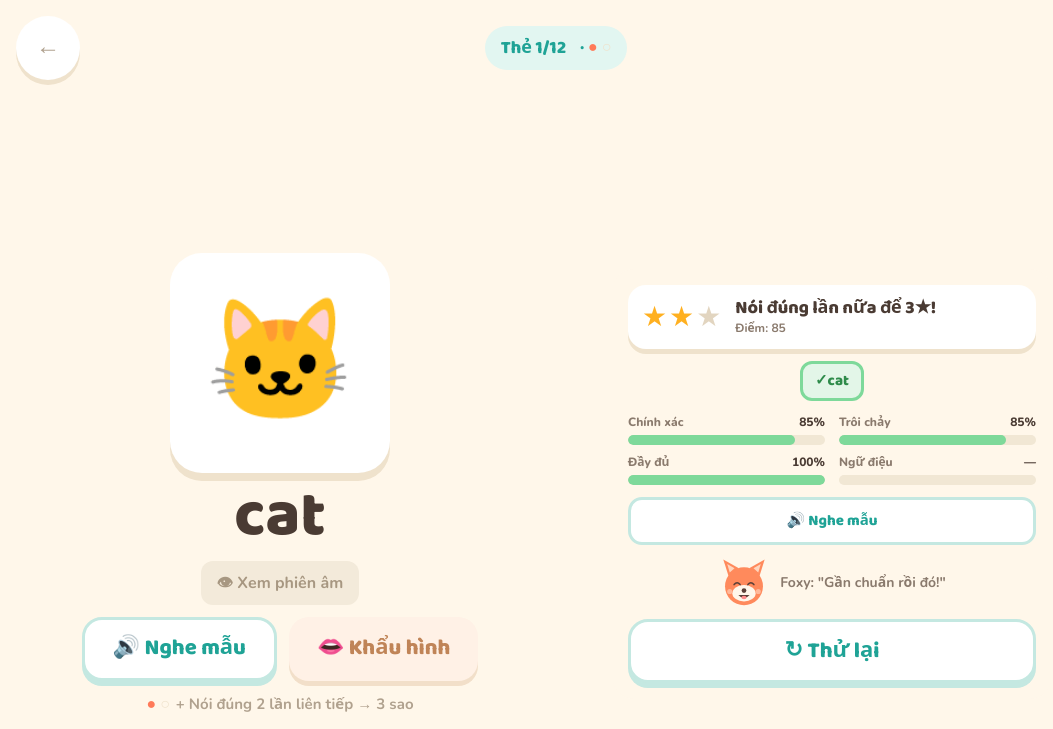
it: Word Pop: hidden IPA + two-in-a-row streak › two consecutive ≥80 results award 3 stars and fill both streak slots in the header chip
expect the text named "Lần 1/2" reads "●": met, box [588,35,598,60]
expect the text named "Lần 2/2" reads "○": met, box [602,35,611,60]
Click the button "↻ Thử lại": click(832, 651) [628,619,1036,683]
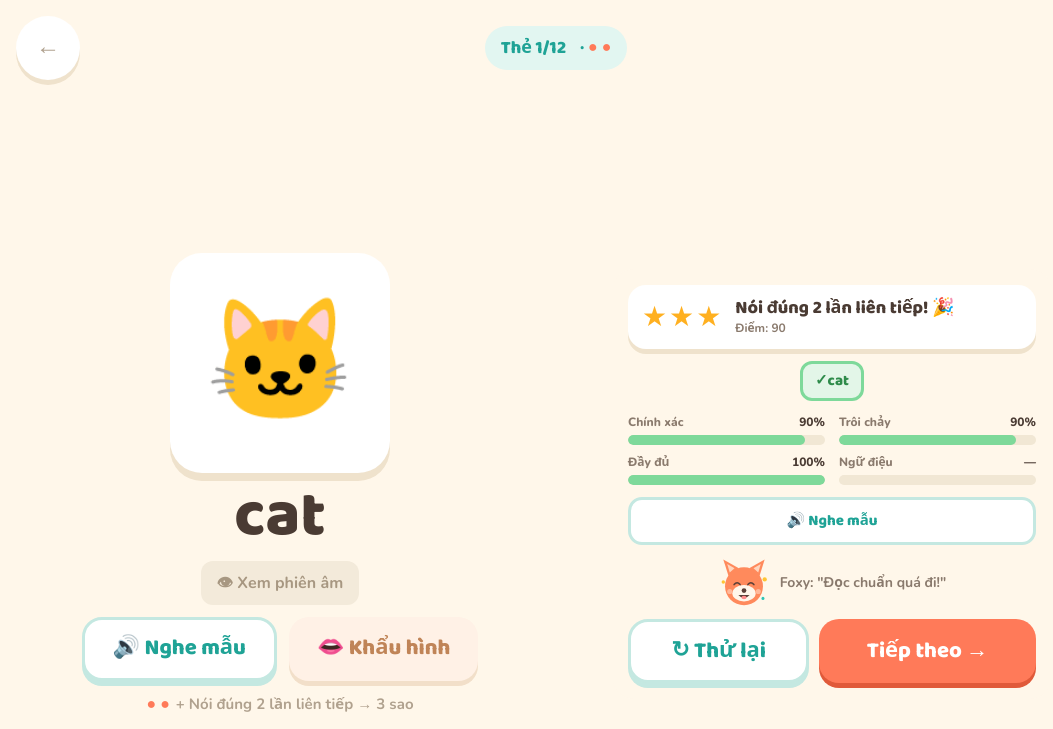
expect the text named "Lần 2/2" reads "●": met, box [602,35,611,60]
expect the text "Nói đúng 2 lần liên tiếp! 🎉" is shown: met, box [735,294,954,322]
expect the number of elements with test id "star-filled" is 3: met, box [642,303,669,331]; [669,303,696,331]; [696,303,723,331]
